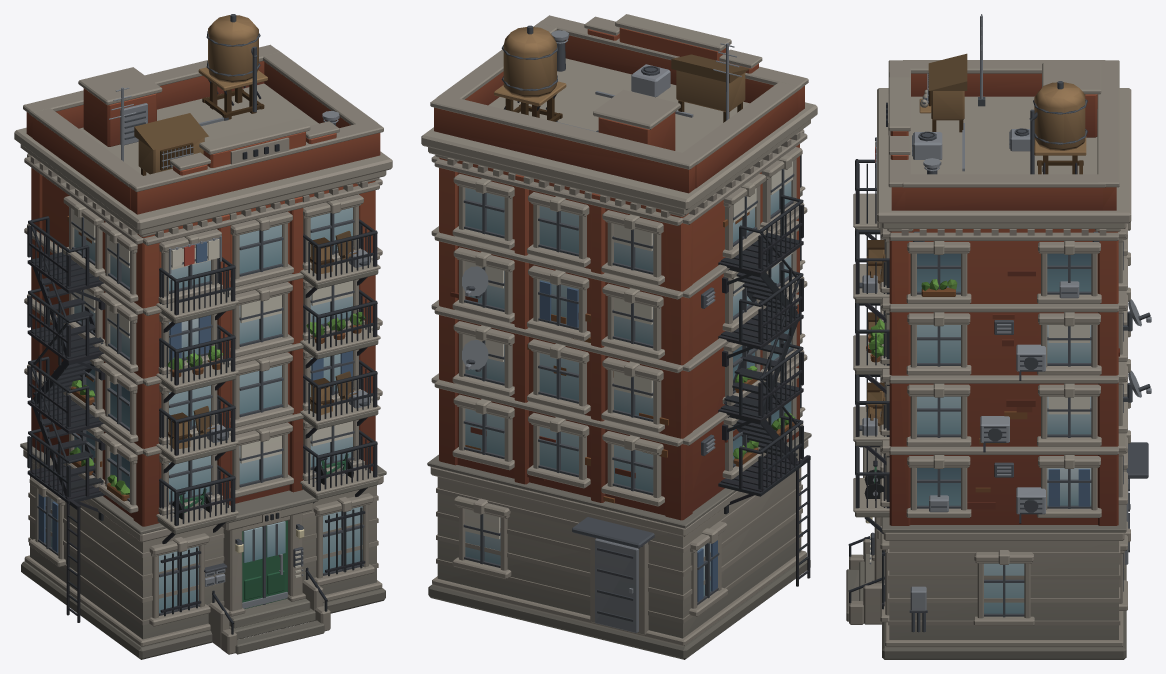
File: apartment-block.glb
The picture shows the model from 3 angles, left to right: view 1: azimuth 30°, elevation 25°; view 2: azimuth 150°, elevation 25°; view 3: azimuth 270°, elevation 25°; orthographic projection. The views are drawn at different scales.
Parts seen in each view (by area): view 1: apartment_block_01; view 2: apartment_block_01; view 3: apartment_block_01.
Part boxes in pixels (box(x1,y1,x2,y2)): apartment_block_01: box(14, 14, 392, 659); apartment_block_01: box(421, 14, 817, 659); apartment_block_01: box(846, 14, 1151, 659).
Bounding box in the file's own units: 7.63 × 13.41 × 6.79.
